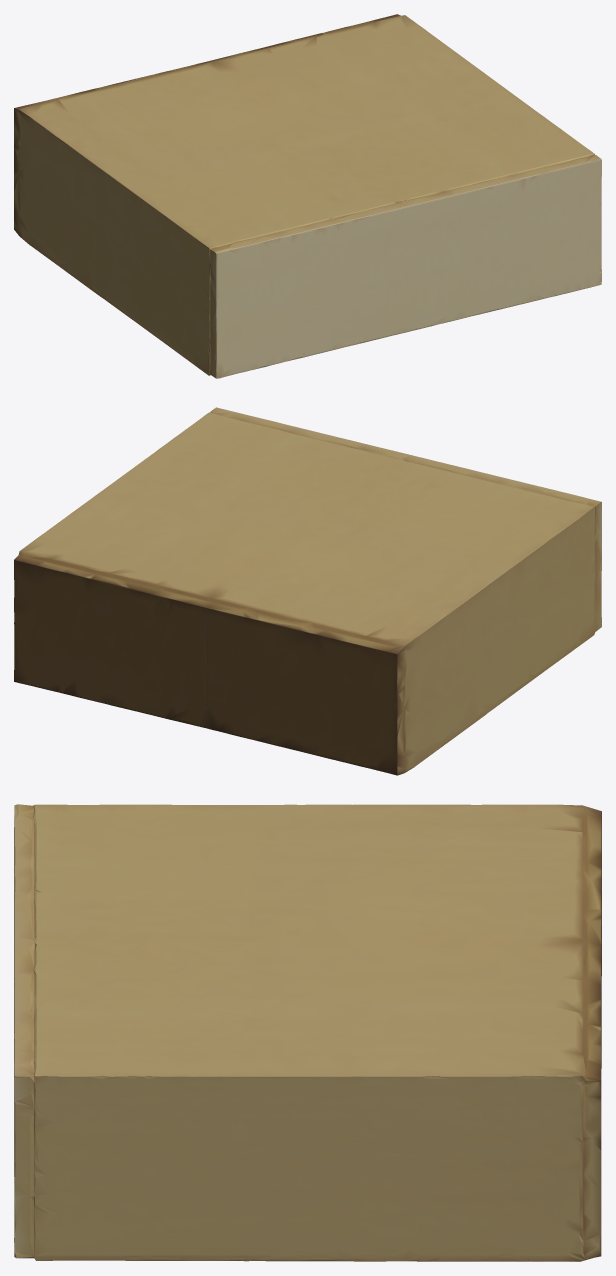
File: table_27.glb
3 renders of one model, top to bottom at view 1: azimuth 30°, elevation 25°; view 2: azimuth 150°, elevation 25°; view 3: azimuth 270°, elevation 25°, orthographic. The views are drawn at different scales.
Parts seen in each view (by area): view 1: geometry_0; view 2: geometry_0; view 3: geometry_0.
Part boxes in pixels (bbox=[...]): geometry_0: bbox=[14, 14, 601, 378]; geometry_0: bbox=[14, 407, 601, 775]; geometry_0: bbox=[14, 804, 601, 1261].
Bounding box in the file's own units: 0.5684 × 0.1814 × 0.5187.
